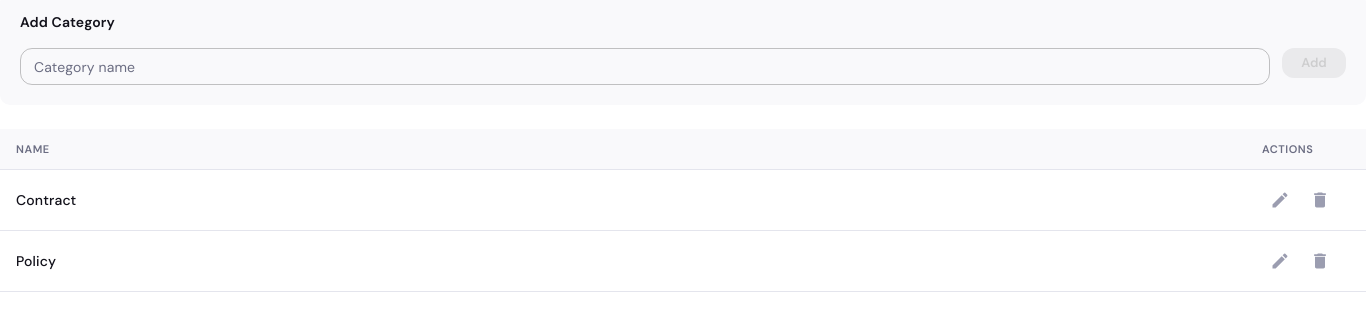
Scenario: CategoryManager › disables save button when edit name is empty
Click the button named "Edit Contract": (1280, 200) [1262,182,1298,218]
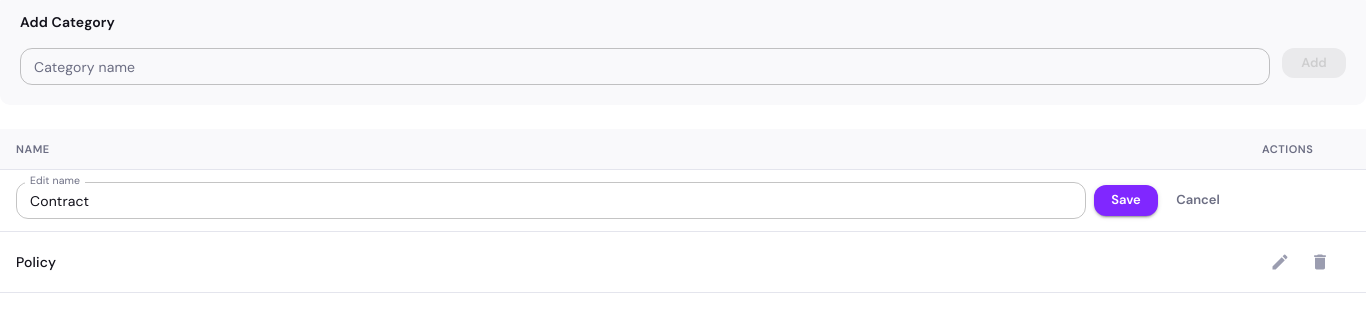
Clear the field labelled "Edit name": (551, 201) [16,182,1086,219]
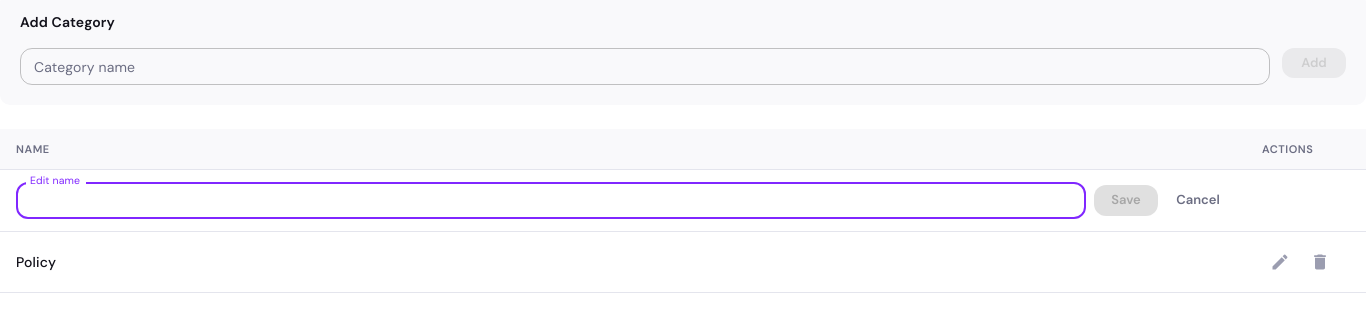
expect the button "Save" is disabled: met, box [1094,185,1158,216]
